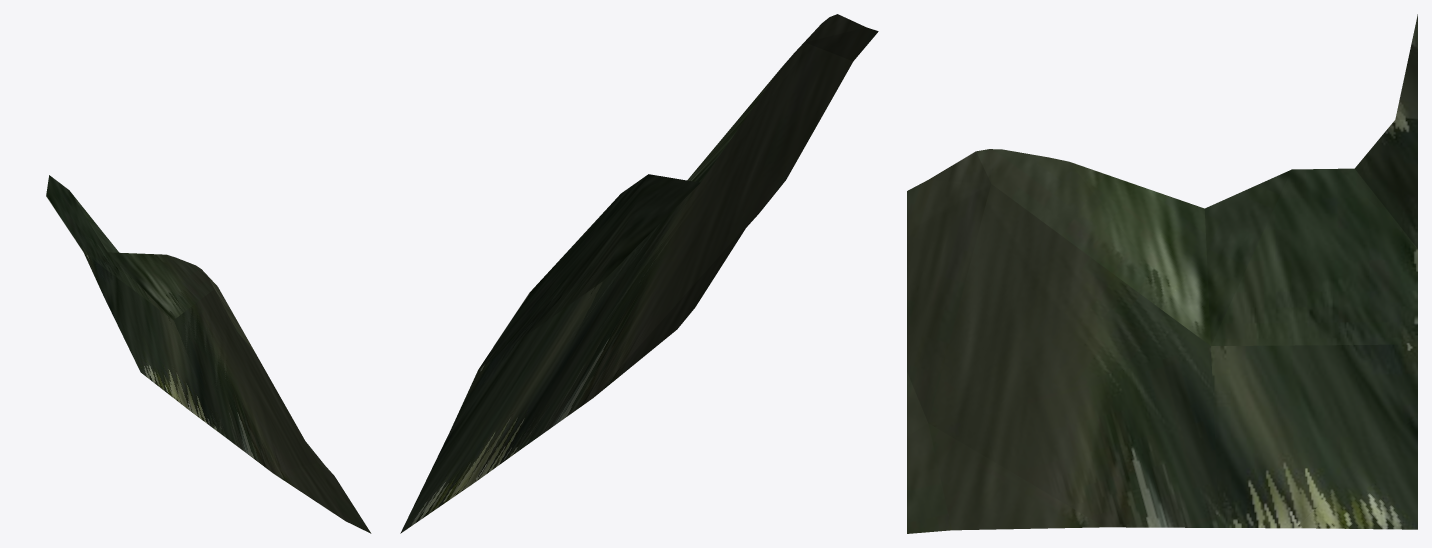
3 renders of one model, left to right at view 1: azimuth 30°, elevation 25°; view 2: azimuth 150°, elevation 25°; view 3: azimuth 270°, elevation 25°, orthographic. The views are drawn at different scales.
Bounding box in the file's own units: 1.02 × 2.84 × 2.95.
Materials: 2 (2 with a texture image).
